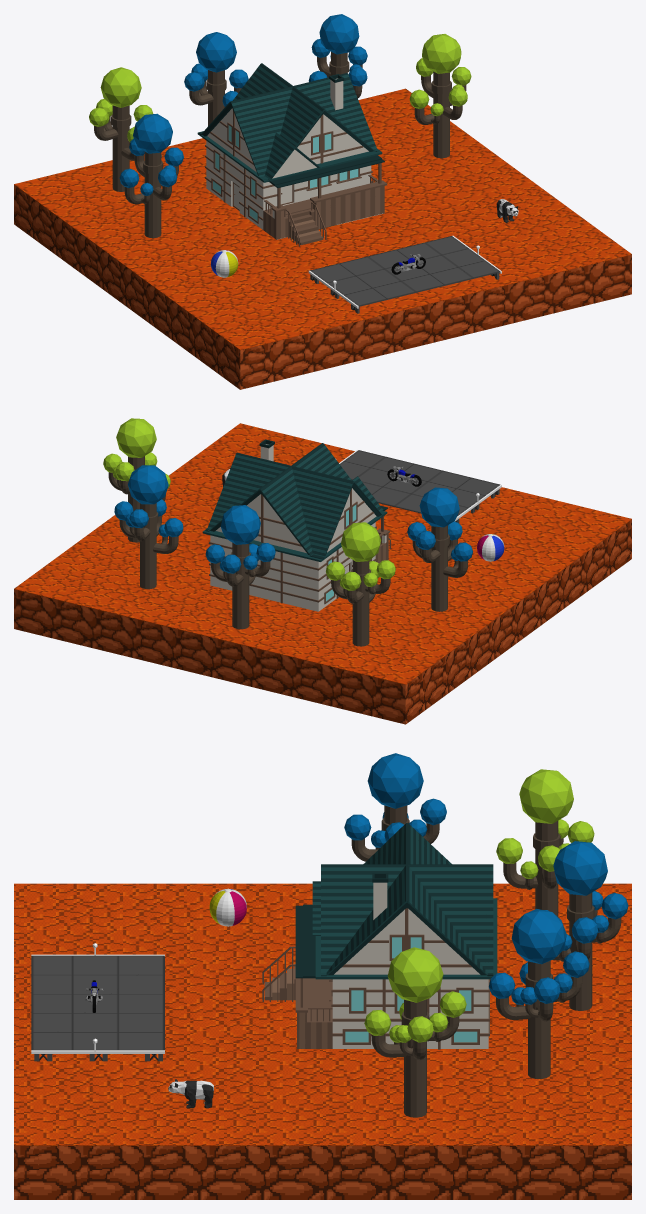
The picture shows the model from 3 angles, top to bottom: view 1: azimuth 30°, elevation 25°; view 2: azimuth 150°, elevation 25°; view 3: azimuth 270°, elevation 25°; orthographic projection. The views are drawn at different scales.
Parts seen in each view (by area): view 1: Cube.001, Cube.793, OBJRANDOM_BEACHBALL; view 2: Cube.001, Cube.793, OBJRANDOM_BEACHBALL; view 3: Cube.001, Cube.793, OBJRANDOM_BEACHBALL, ANIMAL_PANDA.
Part boxes in pixels (<box>): Cube.001: <box>14,14,631,389</box>; Cube.793: <box>197,63,387,246</box>; OBJRANDOM_BEACHBALL: <box>211,250,238,277</box>; Cube.001: <box>14,418,631,724</box>; Cube.793: <box>202,439,390,611</box>; OBJRANDOM_BEACHBALL: <box>477,534,504,561</box>; Cube.001: <box>14,753,631,1199</box>; Cube.793: <box>262,823,497,1049</box>; OBJRANDOM_BEACHBALL: <box>209,888,246,926</box>; ANIMAL_PANDA: <box>168,1079,213,1108</box>.
Size of the model in its own units: 4000 by 1765 by 4000.
Materials: 24 (5 with a texture image).
